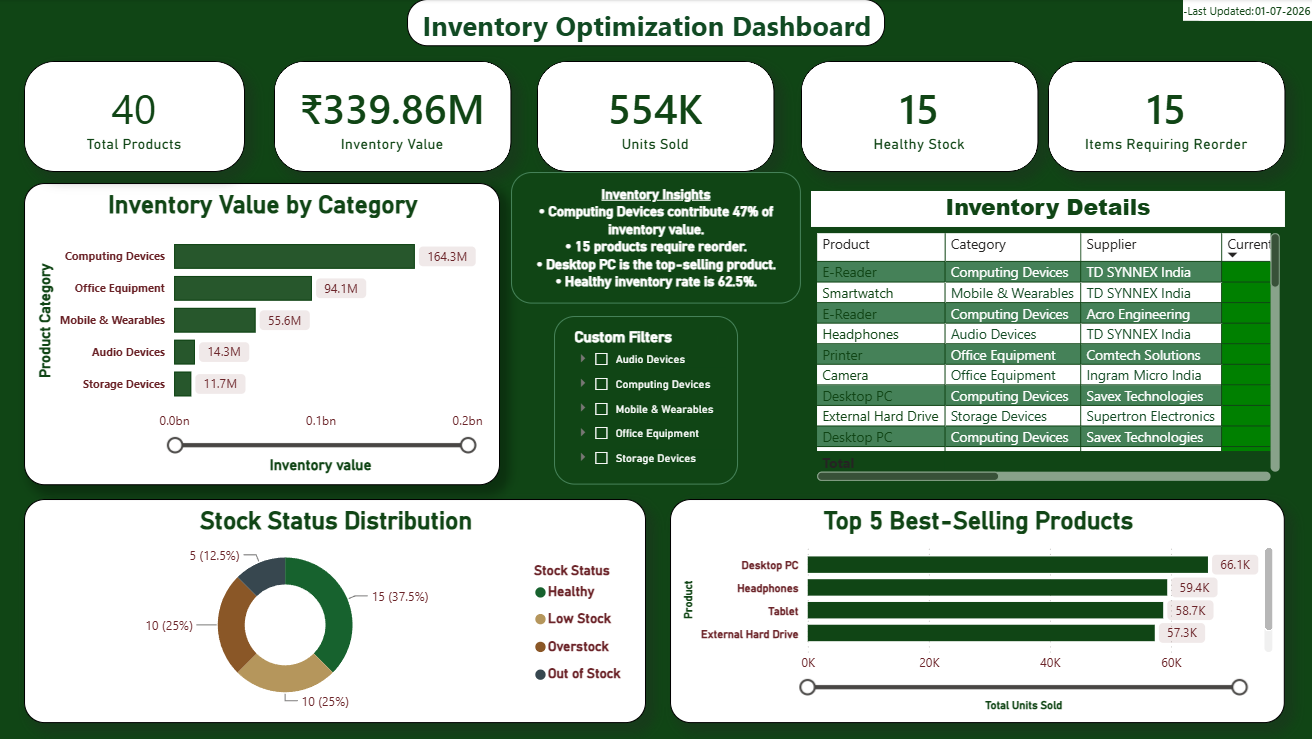

This screenshot's page, from the dashboard's own definition file:
{"tool":"powerbi","page":{"name":"Inventory Optimization Dashboard","canvas":[1280,720],"ordinal":0},"visuals":[{"type":"cardVisual","fields":{"Data":["public products.Last Updated"]},"box":[1222.9,0,57.4,21.4],"z":0,"group":"g1"},{"type":"cardVisual","fields":{"Data":["public inventory_dashboard.Healthy Stock Items"]},"box":[781,60.3,230.5,108],"z":0},{"type":"cardVisual","fields":{"Data":["public products.Last Updated"]},"box":[1152.8,0,70,21.4],"z":1000,"group":"g1"},{"type":"cardVisual","fields":{"Data":["public inventory_dashboard.Total Units Sold"]},"box":[524.3,60.3,230.5,108],"z":1000},{"type":"cardVisual","fields":{"Data":["public inventory_dashboard.Total Inventory Value"]},"box":[268.4,60.3,230.5,108],"z":2000},{"type":"cardVisual","fields":{"Data":["public inventory_dashboard.Reorder Required"]},"box":[1021.3,60.3,230.5,108],"z":3000},{"type":"clusteredBarChart","title":"Inventory Value by Category","fields":{"Category":["public inventory_dashboard.category","public products.productname"],"Y":["Sum(public inventory_dashboard.inventory_value)"]},"box":[25.3,179,463,293.7],"z":4000},{"type":"donutChart","title":"Stock Status Distribution","fields":{"Category":["public inventory_dashboard.stock_status"],"Y":["CountNonNull(public inventory_dashboard.productid)"]},"box":[25.3,486.3,605,217.9],"z":5000},{"type":"barChart","title":"Top 5 Best-Selling Products","fields":{"Category":["public inventory_dashboard.productname"],"Y":["public inventory_dashboard.Total Units Sold"]},"box":[653.6,486.3,598.2,217.9],"z":6000},{"type":"tableEx","title":"Inventory Details","fields":{"Values":["public products.productname","public products.category","public products.supplier","public inventory_dashboard.currentstock","public inventory_dashboard.reorderlevel","public inventory_dashboard.recommended_order_quantity","public inventory_dashboard.average_lead_time","public inventory_dashboard.supply_risk","public inventory_dashboard.reorder_status"]},"box":[790.8,186.7,461,286],"z":7000},{"type":"slicer","fields":{"Values":["public inventory_dashboard.category","public inventory_dashboard.brand","public inventory_dashboard.supplier"]},"box":[540.8,308.3,179,164.4],"z":8000},{"type":"textbox","box":[499,168.3,282.1,128.4],"z":9000},{"type":"cardVisual","fields":{"Data":["CountNonNull(public inventory_dashboard.productid)"]},"box":[25.3,60.3,215,108],"z":10000},{"type":"group","id":"g1","title":"Group 2","box":[1152.8,0,127.5,21.4],"z":11000},{"type":"textbox","title":"Inventory Optimization Dashboard","box":[397.8,0,464.9,45.7],"z":12000}]}

Visuals, with their boxes in screenshot pixels (x1, y1, x2, y2), scaled from the page's 1280x720 canvas onto the 1312x739 screenshot:
cardVisual - public products.Last Updated: (1253,0,1311,22)
cardVisual - public inventory_dashboard.Healthy Stock Items: (801,62,1037,173)
cardVisual - public products.Last Updated: (1182,0,1253,22)
cardVisual - public inventory_dashboard.Total Units Sold: (537,62,774,173)
cardVisual - public inventory_dashboard.Total Inventory Value: (275,62,511,173)
cardVisual - public inventory_dashboard.Reorder Required: (1047,62,1283,173)
"Inventory Value by Category" clusteredBarChart: (26,184,501,485)
"Stock Status Distribution" donutChart: (26,499,646,723)
"Top 5 Best-Selling Products" barChart: (670,499,1283,723)
"Inventory Details" tableEx: (811,192,1283,485)
slicer - public inventory_dashboard.category x public inventory_dashboard.brand: (554,316,738,485)
textbox: (511,173,801,305)
cardVisual - CountNonNull(public inventory_dashboard.productid): (26,62,246,173)
"Group 2" group: (1182,0,1311,22)
"Inventory Optimization Dashboard" textbox: (408,0,884,47)
